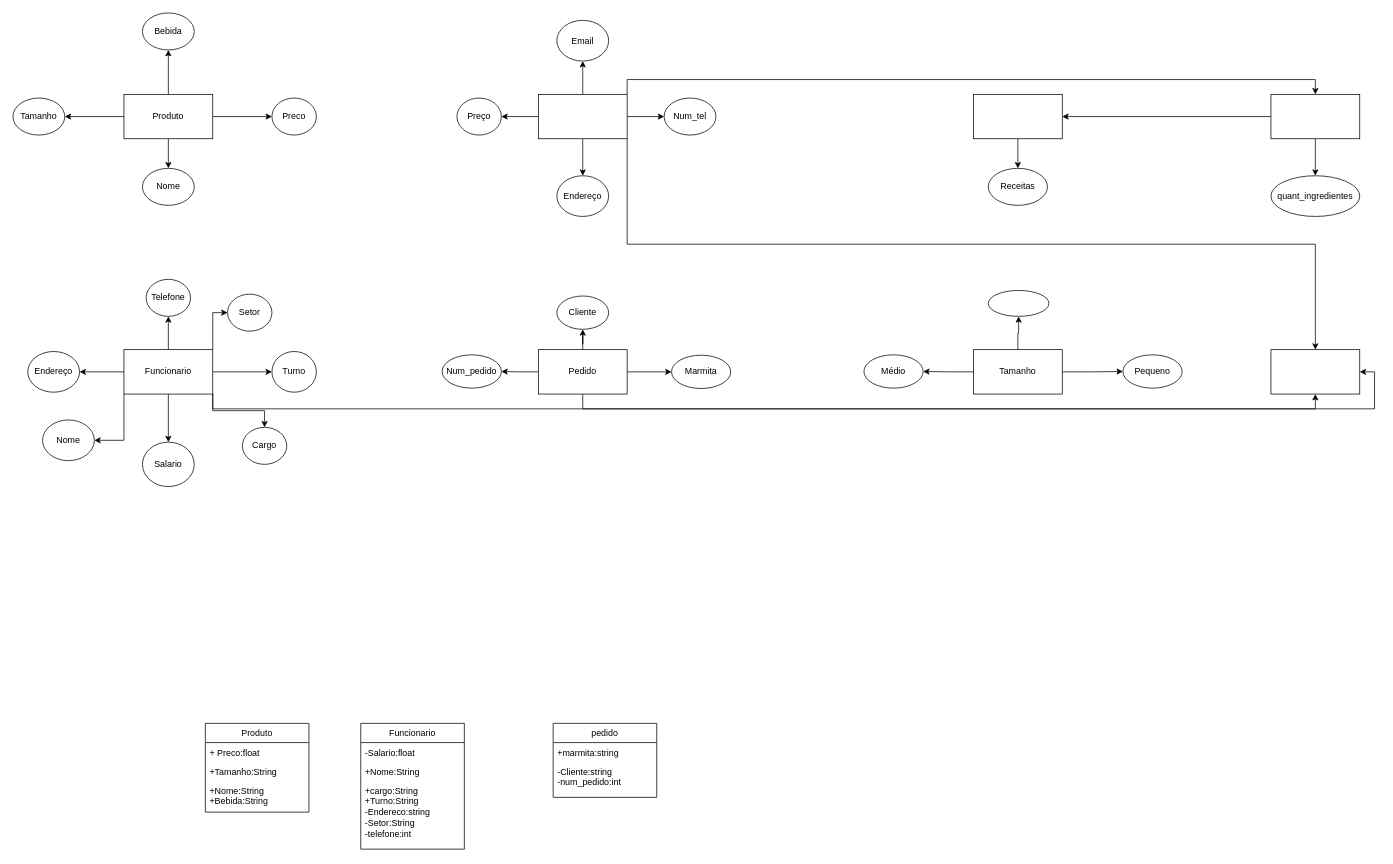
This 1393x864 diagram has some shape labels left out. Each missing label, with the centre of its shape:
"Comidas" goes at (x=1017, y=116).
"Fornecedor" goes at (x=582, y=116).
"Grande" goes at (x=1018, y=303).
"Ingedientes" goes at (x=1315, y=116).
"Lançamento" goes at (x=1315, y=371).
